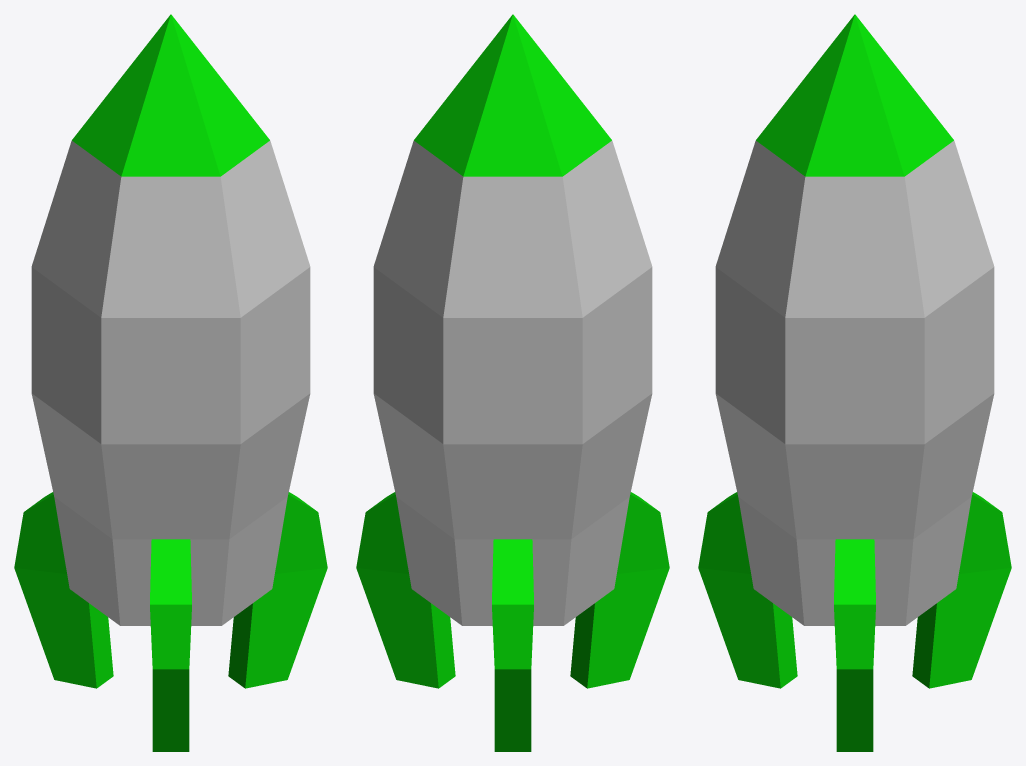
The model's file is Rocket.fbx.
3 renders of one model, left to right at view 1: azimuth 30°, elevation 25°; view 2: azimuth 150°, elevation 25°; view 3: azimuth 270°, elevation 25°, orthographic.
Parts seen in each view (by area): view 1: Cylinder; view 2: Cylinder; view 3: Cylinder.
Boxes of the visible parts, bbox=[...] form: Cylinder: bbox=[14, 14, 327, 751]; Cylinder: bbox=[356, 14, 669, 751]; Cylinder: bbox=[698, 14, 1011, 751].
Size of the model in its own units: 209 by 542 by 225.
